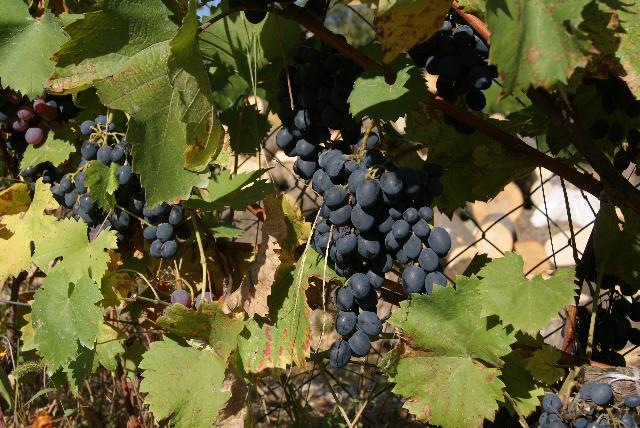grapes: (311, 140, 450, 368), (276, 45, 364, 179), (425, 20, 494, 110)
